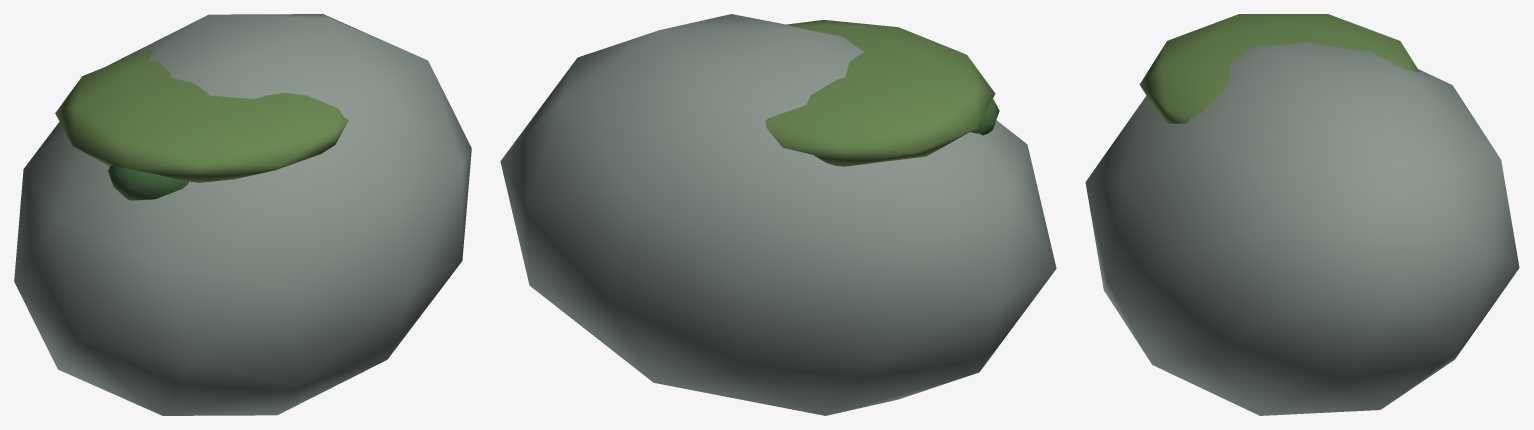
The model's file is moss-rock.glb.
3 renders of one model, left to right at view 1: azimuth 30°, elevation 25°; view 2: azimuth 150°, elevation 25°; view 3: azimuth 270°, elevation 25°, orthographic. The views are drawn at different scales.
Visible parts, largest first — view 1: moss-rock-visual; view 2: moss-rock-visual; view 3: moss-rock-visual.
Boxes of the visible parts, x1,y1,x2,y2 form: moss-rock-visual: (14, 14, 471, 415); moss-rock-visual: (500, 14, 1056, 415); moss-rock-visual: (1085, 14, 1519, 415).
Size of the model in its own units: 0.8097 by 0.5899 by 0.6926.
